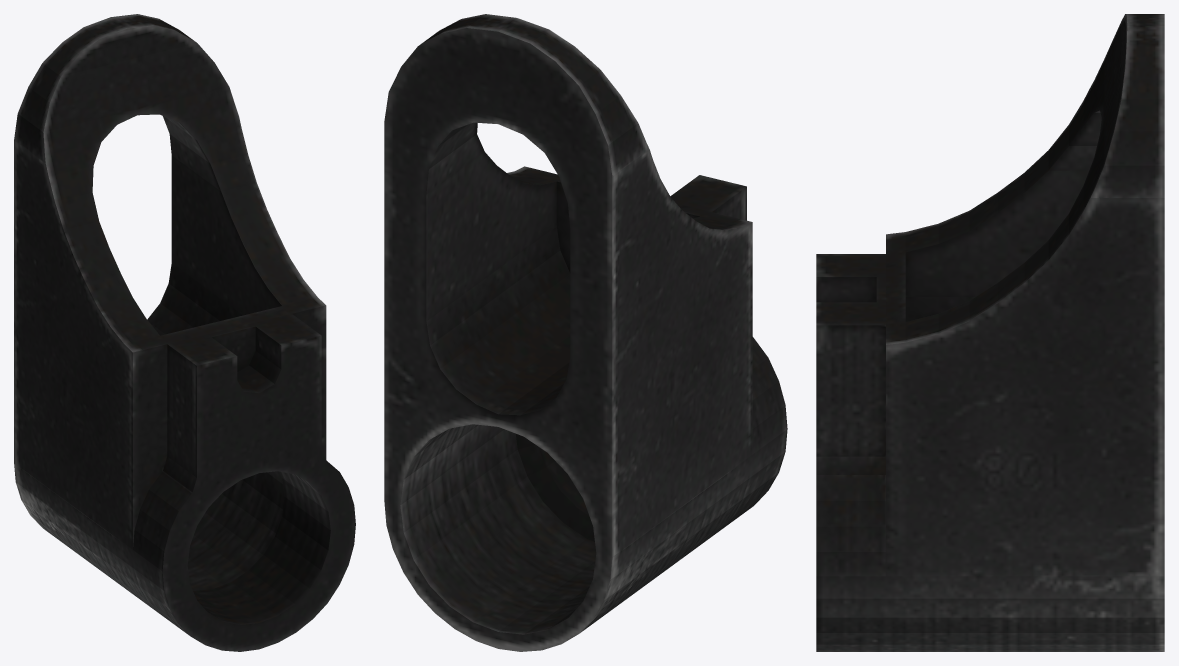
The picture shows the model from 3 angles, left to right: view 1: azimuth 30°, elevation 25°; view 2: azimuth 150°, elevation 25°; view 3: azimuth 270°, elevation 25°; orthographic projection. The views are drawn at different scales.
Parts seen in each view (by area): view 1: TW_62e2a754b6c0ee2f230cee0f_PZ_Import; view 2: TW_62e2a754b6c0ee2f230cee0f_PZ_Import; view 3: TW_62e2a754b6c0ee2f230cee0f_PZ_Import.
Part boxes in pixels (x1=…): TW_62e2a754b6c0ee2f230cee0f_PZ_Import: x1=14, y1=14, x2=355, y2=651; TW_62e2a754b6c0ee2f230cee0f_PZ_Import: x1=384, y1=14, x2=787, y2=651; TW_62e2a754b6c0ee2f230cee0f_PZ_Import: x1=816, y1=14, x2=1164, y2=651.
Bounding box in the file's own units: 0.0111 × 0.0148 × 0.0288.
1 material, 1 textured.
